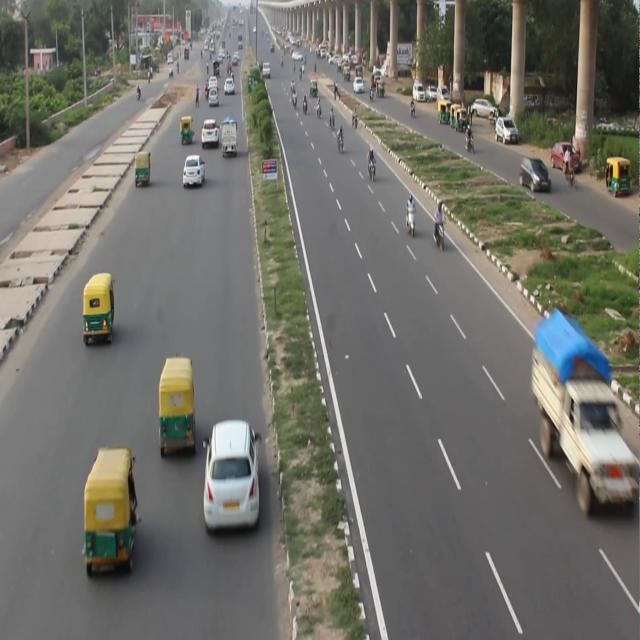Motorbikes: (434, 203, 448, 250), (404, 192, 417, 238), (564, 150, 576, 186), (365, 147, 377, 181), (465, 124, 477, 154), (328, 105, 337, 132), (336, 124, 344, 154), (407, 95, 417, 118), (314, 98, 324, 117), (352, 106, 359, 129), (302, 92, 308, 114), (291, 90, 297, 108), (370, 90, 374, 102)
Passenger Car: (84, 445, 136, 576), (203, 421, 261, 532), (159, 358, 196, 458), (84, 274, 115, 346), (519, 156, 552, 194), (607, 154, 632, 199), (492, 116, 520, 148), (221, 118, 239, 158), (184, 156, 206, 188), (134, 153, 152, 190), (200, 116, 218, 152), (179, 113, 195, 144)
Pickup Trucks: (534, 324, 638, 520)
